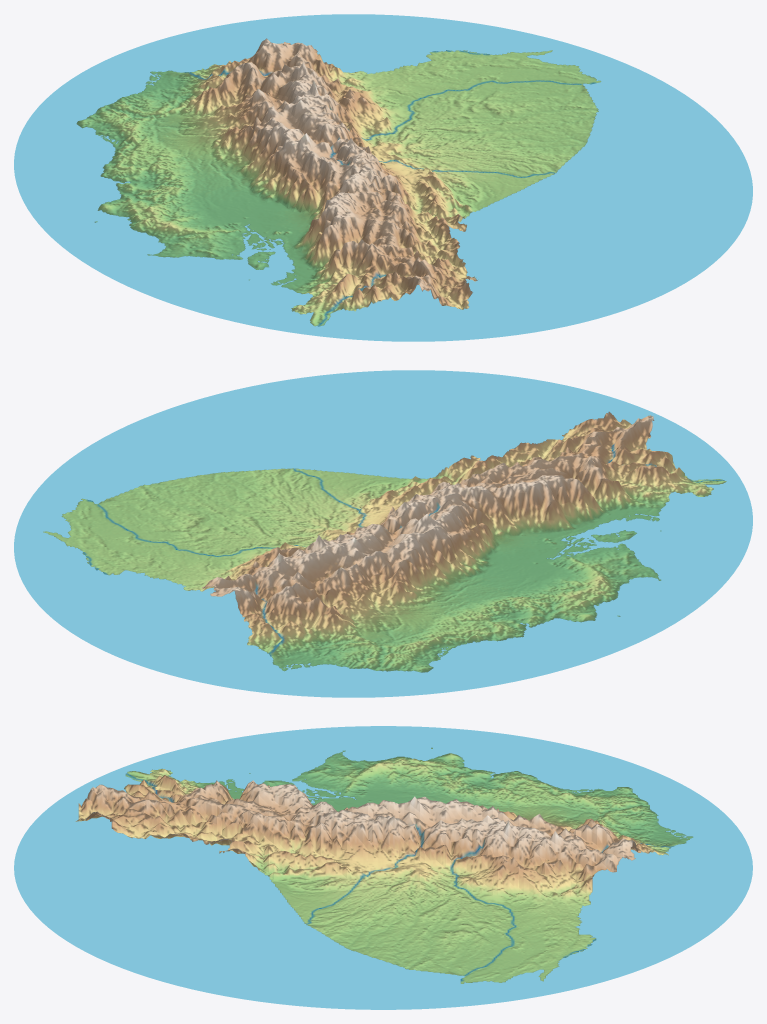
File: ECU-terrain.glb
3 renders of one model, top to bottom at view 1: azimuth 30°, elevation 25°; view 2: azimuth 150°, elevation 25°; view 3: azimuth 270°, elevation 25°, orthographic. The views are drawn at different scales.
Visible parts, largest first — view 1: Relevo com hidrografia; view 2: Relevo com hidrografia; view 3: Relevo com hidrografia.
Part boxes in pixels (box(x1,y1,x2,y2)): Relevo com hidrografia: box(14, 14, 752, 341); Relevo com hidrografia: box(14, 370, 752, 697); Relevo com hidrografia: box(14, 726, 752, 1009).
Size of the model in its own units: 1.75 by 0.1306 by 1.92.
Materials: 2 (1 with a texture image).
